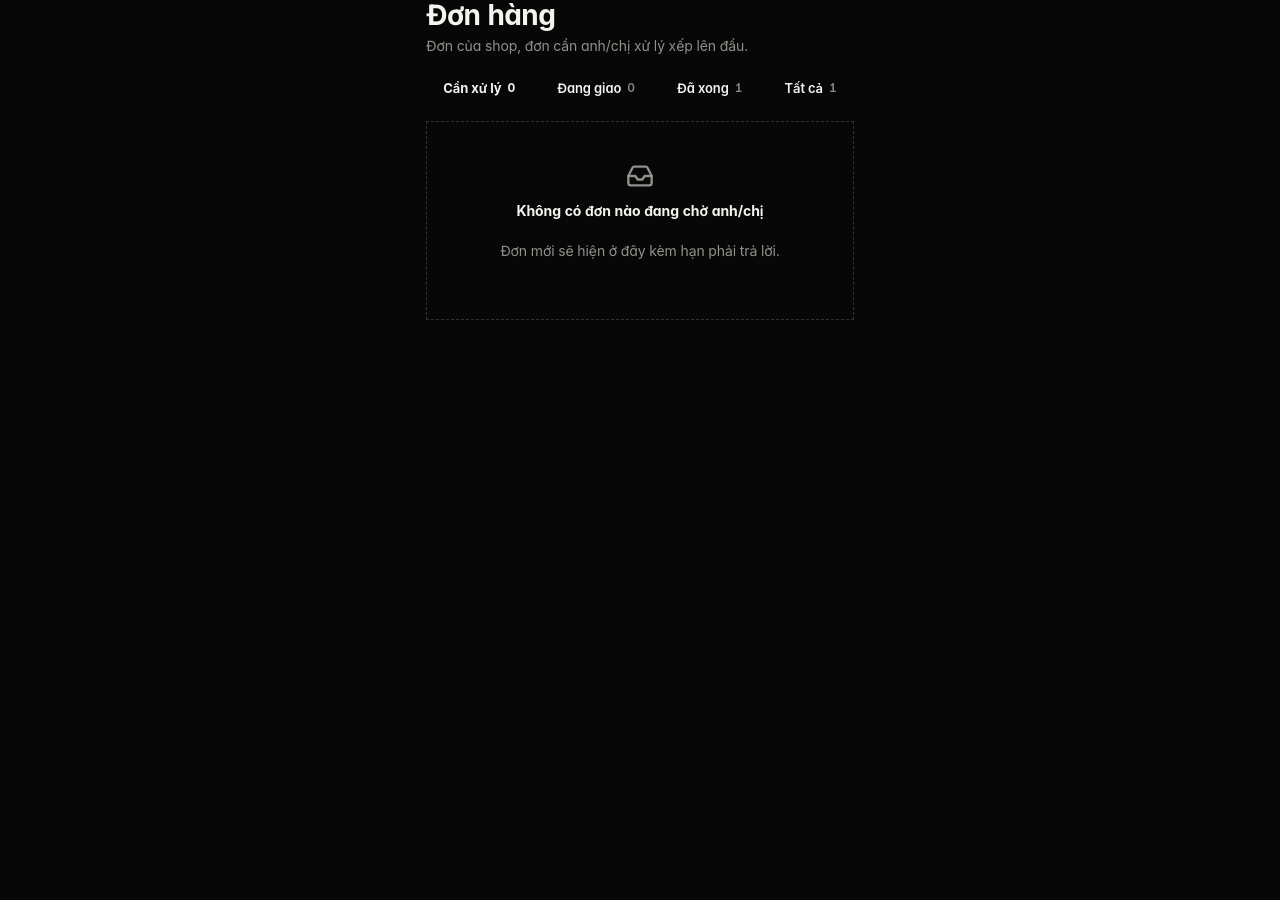
it: the three empties › any other empty tab is a plainer sentence
Step 1. Click the tab "Đang giao 0" → (596, 88), box [540,78,652,99]
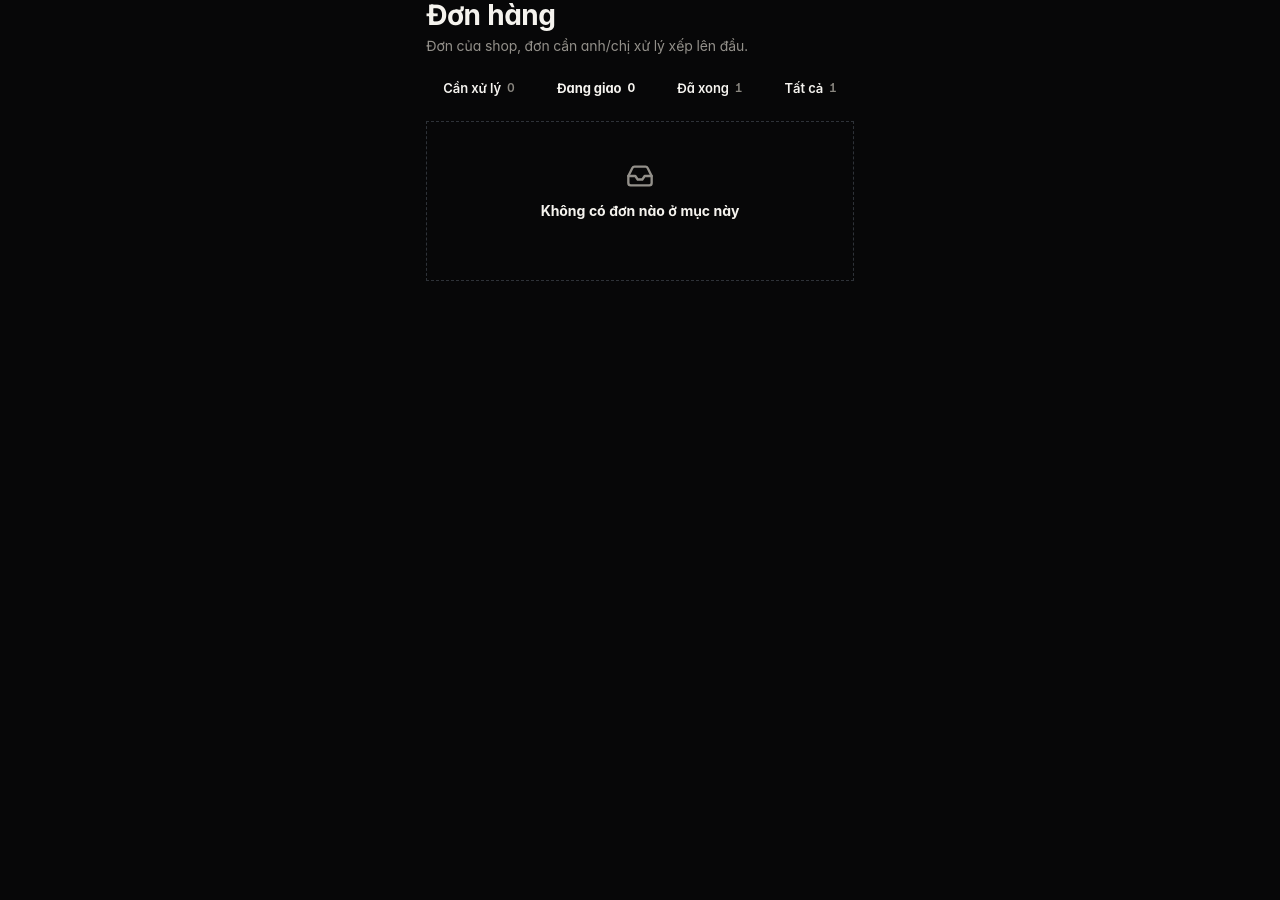
Expected: the text "Không có đơn nào ở mục này" is shown, [541,202,739,219]
Expected: the text "Đơn mới sẽ hiện ở đây kèm hạn phải trả lời." is gone
